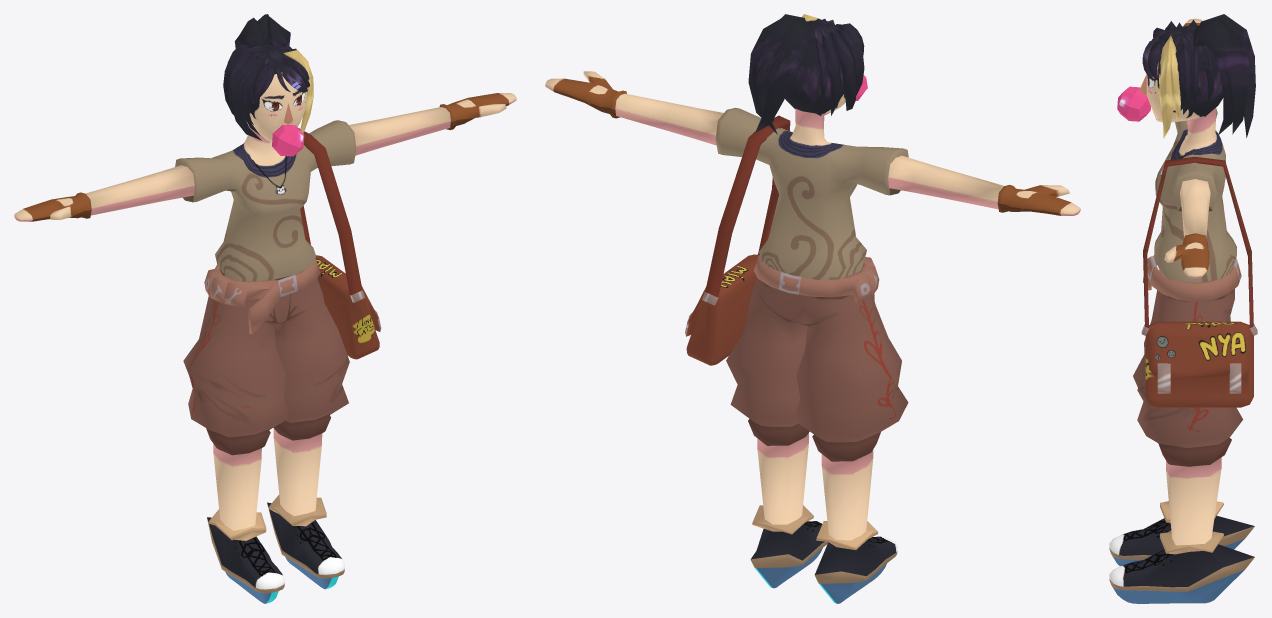
Rendered from Acc.glb.
3 views of the same model, side by side, from view 1: azimuth 30°, elevation 25°; view 2: azimuth 150°, elevation 25°; view 3: azimuth 270°, elevation 25° (orthographic). The views are drawn at different scales.
Visible parts, largest first — view 1: Cuerpo; view 2: Cuerpo; view 3: Cuerpo.
Part boxes in pixels (left/top/right/bottom): Cuerpo: left=14, top=14, right=516, bottom=603; Cuerpo: left=545, top=14, right=1080, bottom=603; Cuerpo: left=1109, top=14, right=1257, bottom=603.
Size of the model in its own units: 14.53 by 15.25 by 3.56.
1 material, 1 textured.
